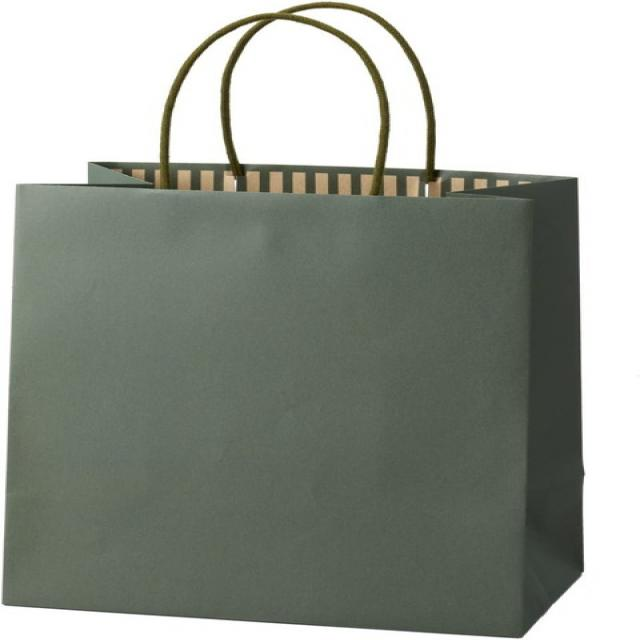paper bag: (1, 2, 640, 638)
